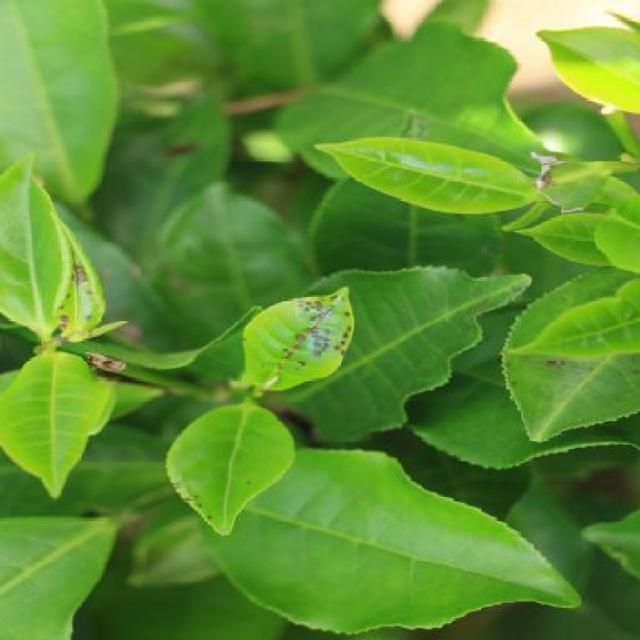Tea Mosquito bug infested leaf: (229, 284, 365, 394), (48, 223, 112, 334)
